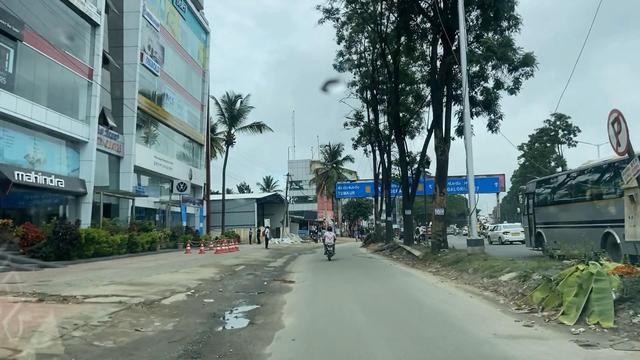RoadDamages: (211, 293, 259, 338), (220, 268, 299, 291)
